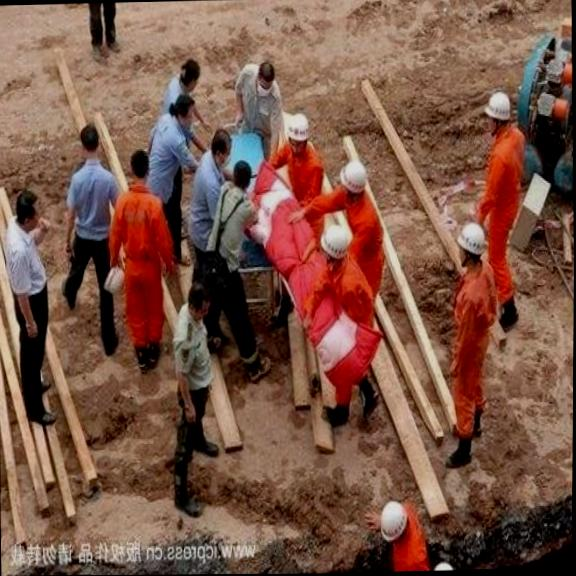no_safety_vest: (62, 160, 115, 244), (142, 112, 188, 202), (184, 152, 228, 246), (168, 308, 214, 397), (232, 72, 285, 145), (1, 223, 49, 303), (181, 150, 221, 245), (209, 183, 252, 264)
safety_vest: (105, 188, 170, 284), (449, 259, 502, 366), (315, 252, 378, 336), (477, 123, 529, 224), (337, 183, 385, 269), (282, 141, 328, 229), (390, 502, 428, 571)
